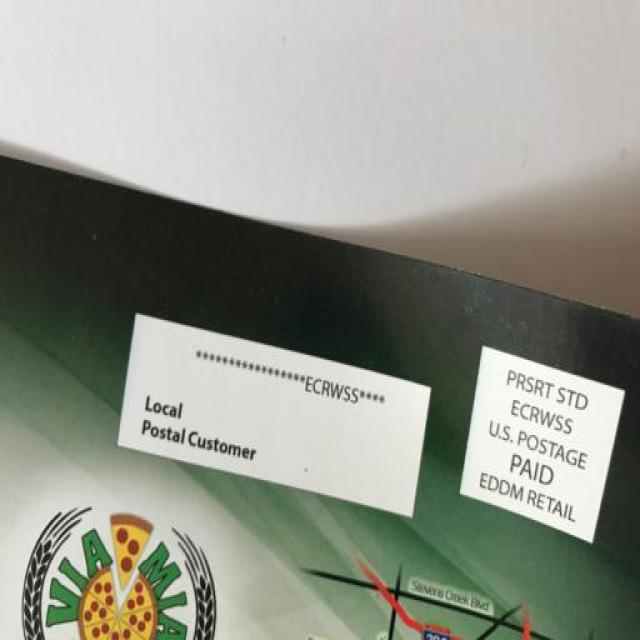paper: (1, 127, 640, 640)
